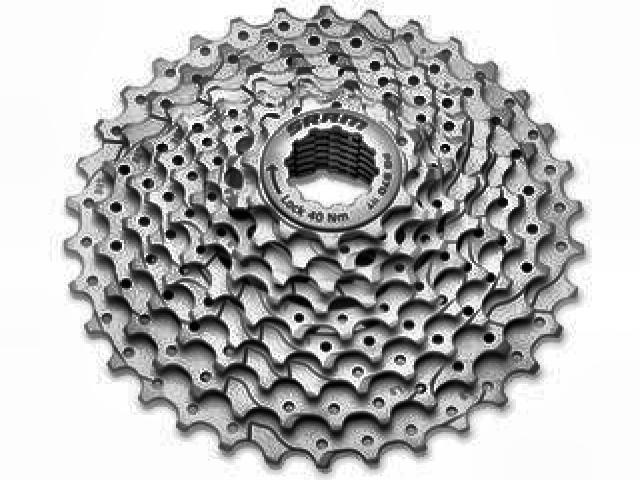cassette: (63, 4, 587, 475)
